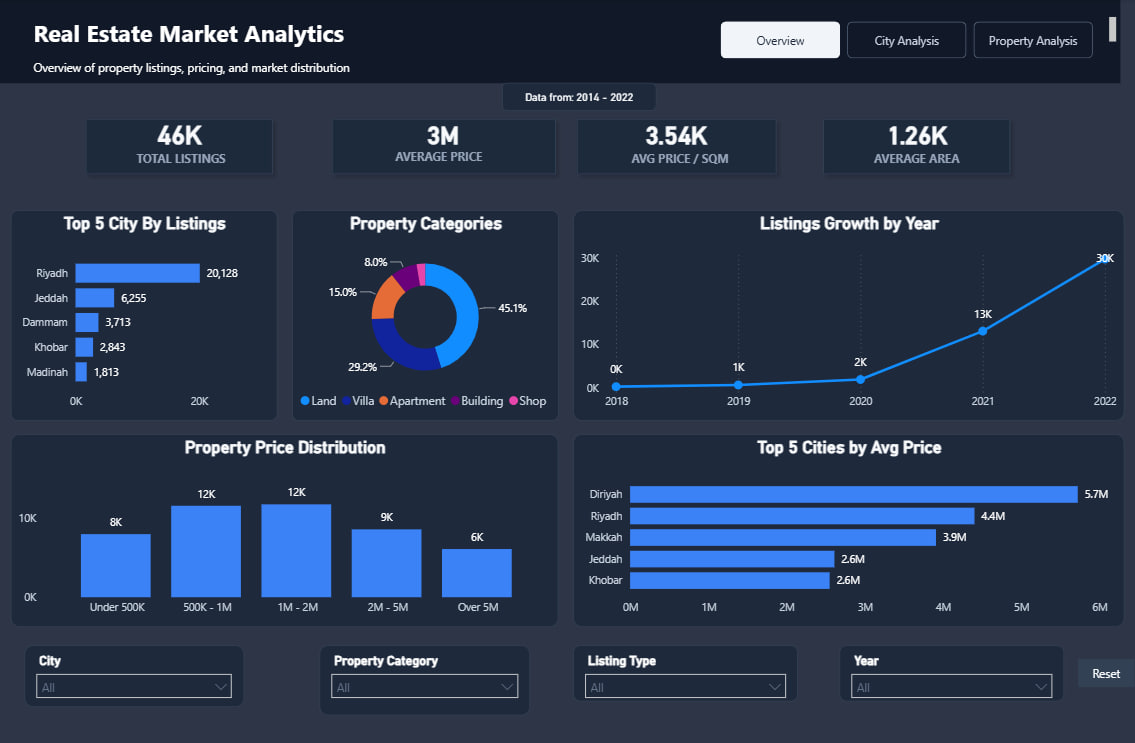

The dashboard page shown, as its layout file describes it:
{"tool":"powerbi","page":{"name":"Overview","canvas":[1300,850],"ordinal":0},"visuals":[{"type":"shape","box":[0,0,1280,96],"z":0},{"type":"textbox","box":[0,16,1280,48],"z":1000},{"type":"textbox","box":[0,64,1280,48],"z":2000},{"type":"group","id":"g1","title":"Group 1","box":[92.7,127.8,272,80],"z":3000},{"type":"shape","box":[92.7,127.8,230,80],"z":3000,"group":"g4"},{"type":"shape","box":[372.7,127.8,272,80],"z":3000,"group":"g5"},{"type":"shape","box":[652.7,127.8,244.4,80],"z":3000,"group":"g6"},{"type":"shape","box":[932.7,127.8,230,80],"z":3000,"group":"g7"},{"type":"group","id":"g2","title":"Group 1","box":[372.7,127.8,272,80],"z":4000},{"type":"card","fields":{"Values":["powerbi_real_estate_dashboard.Total Listings"]},"box":[107.7,132.8,200,40],"z":4000,"group":"g4"},{"type":"card","fields":{"Values":["powerbi_real_estate_dashboard.Average Price"]},"box":[390.4,132.8,236.5,40],"z":4000,"group":"g5"},{"type":"card","fields":{"Values":["powerbi_real_estate_dashboard.Average Price per SQM"]},"box":[668.6,132.8,212.5,40],"z":4000,"group":"g6"},{"type":"card","fields":{"Values":["powerbi_real_estate_dashboard.Average Area"]},"box":[947.7,132.8,200,40],"z":4000,"group":"g7"},{"type":"group","id":"g3","title":"Group 1","box":[652.7,127.8,272,80],"z":5000},{"type":"textbox","box":[448.4,164.8,189.2,32],"z":5000,"group":"g5"},{"type":"textbox","box":[153.7,167.8,208,32],"z":5000,"group":"g4"},{"type":"textbox","box":[717.5,167.8,221,32],"z":5000,"group":"g6"},{"type":"textbox","box":[993.7,167.8,208,32],"z":5000,"group":"g7"},{"type":"group","id":"g4","title":"Group 2","box":[92.7,127.8,269,80],"z":5002,"group":"g1"},{"type":"group","id":"g5","title":"Group 2","box":[372.7,127.8,272,80],"z":5002,"group":"g2"},{"type":"group","id":"g6","title":"Group 2","box":[652.7,127.8,285.8,80],"z":5002,"group":"g3"},{"type":"group","id":"g7","title":"Group 2","box":[932.7,127.8,269,80],"z":5002,"group":"g8"},{"type":"group","id":"g8","title":"Group 1","box":[932.7,127.8,272,80],"z":6000},{"type":"clusteredBarChart","title":"Top 5 City By Listings","fields":{"Category":["powerbi_real_estate_dashboard.City"],"Y":["powerbi_real_estate_dashboard.Total Listings"]},"box":[16,240,304,240],"z":7000},{"type":"donutChart","title":"Property Categories","fields":{"Y":["powerbi_real_estate_dashboard.Total Listings"],"Category":["powerbi_real_estate_dashboard.Property_Category"]},"box":[336,240,304,240],"z":8000},{"type":"clusteredBarChart","title":"Top 5 Cities by Avg Price","fields":{"Category":["powerbi_real_estate_dashboard.City"],"Y":["powerbi_real_estate_dashboard.Average Price"]},"box":[656,496,628,220],"z":9000},{"type":"clusteredColumnChart","title":"Property Price Distribution","fields":{"Category":["powerbi_real_estate_dashboard.Price Band"],"Y":["powerbi_real_estate_dashboard.Total Listings"]},"box":[16,496,624,220],"z":10000},{"type":"lineChart","title":"Listings Growth by Year","fields":{"Y":["powerbi_real_estate_dashboard.Total Listings"],"Category":["powerbi_real_estate_dashboard.Year"]},"box":[656,240,628,240],"z":11000},{"type":"slicer","fields":{"Values":["powerbi_real_estate_dashboard.City"]},"box":[32,736,250,70],"z":12000},{"type":"slicer","fields":{"Values":["powerbi_real_estate_dashboard.Property_Category"]},"box":[368,736,240,80],"z":13000},{"type":"slicer","fields":{"Values":["powerbi_real_estate_dashboard.listing_type"]},"box":[656,736,256,64],"z":14000},{"type":"slicer","fields":{"Values":["powerbi_real_estate_dashboard.Year"]},"box":[960,736,256,64],"z":15000},{"type":"pageNavigator","box":[825,25,425,42],"z":16000},{"type":"actionButton","box":[1232,752,64,32],"z":17000},{"type":"card","fields":{"Values":["powerbi_real_estate_dashboard.Data Range"]},"box":[576,96,176,32],"z":18000}]}

Visuals, with their boxes in screenshot pixels (x1, y1, x2, y2), scaled from the page's 1300x850 canvas onto the 1135x743 screenshot:
shape: Rect(0, 0, 1118, 84)
textbox: Rect(0, 14, 1118, 56)
textbox: Rect(0, 56, 1118, 98)
"Group 1" group: Rect(81, 112, 318, 182)
shape: Rect(81, 112, 282, 182)
shape: Rect(325, 112, 563, 182)
shape: Rect(570, 112, 783, 182)
shape: Rect(814, 112, 1015, 182)
"Group 1" group: Rect(325, 112, 563, 182)
card - powerbi_real_estate_dashboard.Total Listings: Rect(94, 116, 269, 151)
card - powerbi_real_estate_dashboard.Average Price: Rect(341, 116, 547, 151)
card - powerbi_real_estate_dashboard.Average Price per SQM: Rect(584, 116, 769, 151)
card - powerbi_real_estate_dashboard.Average Area: Rect(827, 116, 1002, 151)
"Group 1" group: Rect(570, 112, 807, 182)
textbox: Rect(391, 144, 557, 172)
textbox: Rect(134, 147, 316, 175)
textbox: Rect(626, 147, 819, 175)
textbox: Rect(868, 147, 1049, 175)
"Group 2" group: Rect(81, 112, 316, 182)
"Group 2" group: Rect(325, 112, 563, 182)
"Group 2" group: Rect(570, 112, 819, 182)
"Group 2" group: Rect(814, 112, 1049, 182)
"Group 1" group: Rect(814, 112, 1052, 182)
"Top 5 City By Listings" clusteredBarChart: Rect(14, 210, 279, 420)
"Property Categories" donutChart: Rect(293, 210, 559, 420)
"Top 5 Cities by Avg Price" clusteredBarChart: Rect(573, 434, 1121, 626)
"Property Price Distribution" clusteredColumnChart: Rect(14, 434, 559, 626)
"Listings Growth by Year" lineChart: Rect(573, 210, 1121, 420)
slicer - powerbi_real_estate_dashboard.City: Rect(28, 643, 246, 705)
slicer - powerbi_real_estate_dashboard.Property_Category: Rect(321, 643, 531, 713)
slicer - powerbi_real_estate_dashboard.listing_type: Rect(573, 643, 796, 699)
slicer - powerbi_real_estate_dashboard.Year: Rect(838, 643, 1062, 699)
pageNavigator: Rect(720, 22, 1091, 59)
actionButton: Rect(1076, 657, 1132, 685)
card - powerbi_real_estate_dashboard.Data Range: Rect(503, 84, 657, 112)
